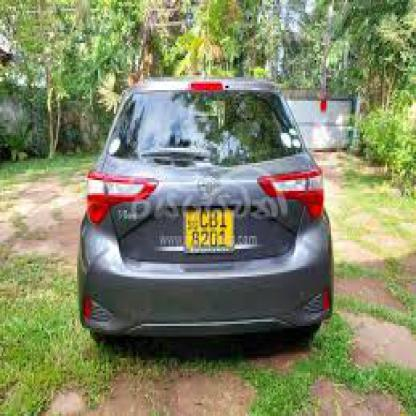car: (77, 77, 337, 350)
